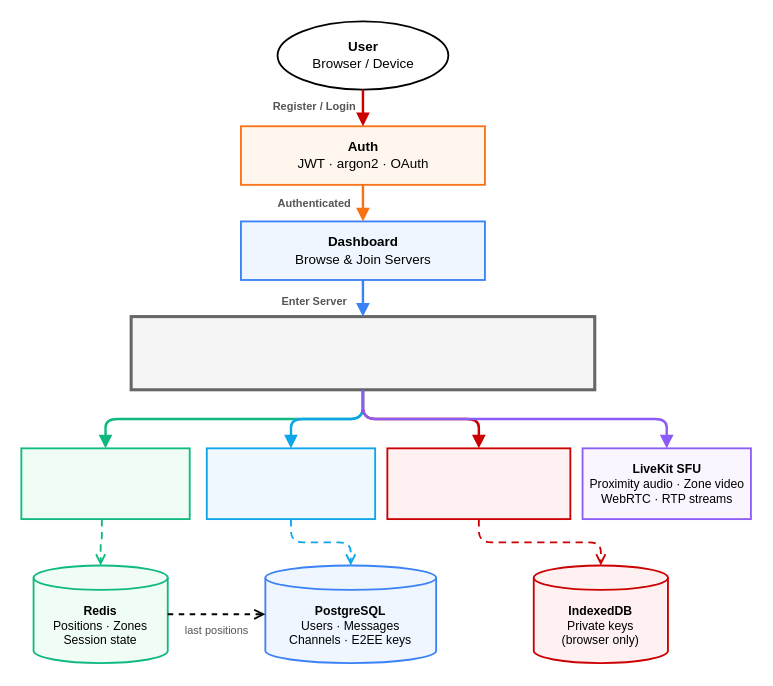
Image size: 773x686. Some labels were removed from this diagram. The centre of each missing label's shape, as x and y in pixels:
Channels & DMs Persistent channels REST API + WS broadcast: (x=290, y=483)
E2EE Crypto X25519 ECDH · HKDF AES-256-GCM · WebAuthn PRF: (x=478, y=483)
Game World (Phaser 3) Tile-based Virtual Space · Grid Engine · 2D Map: (x=362, y=353)
WebSocket Player moves · Zone events Reactions · Proximity chat: (x=105, y=483)
